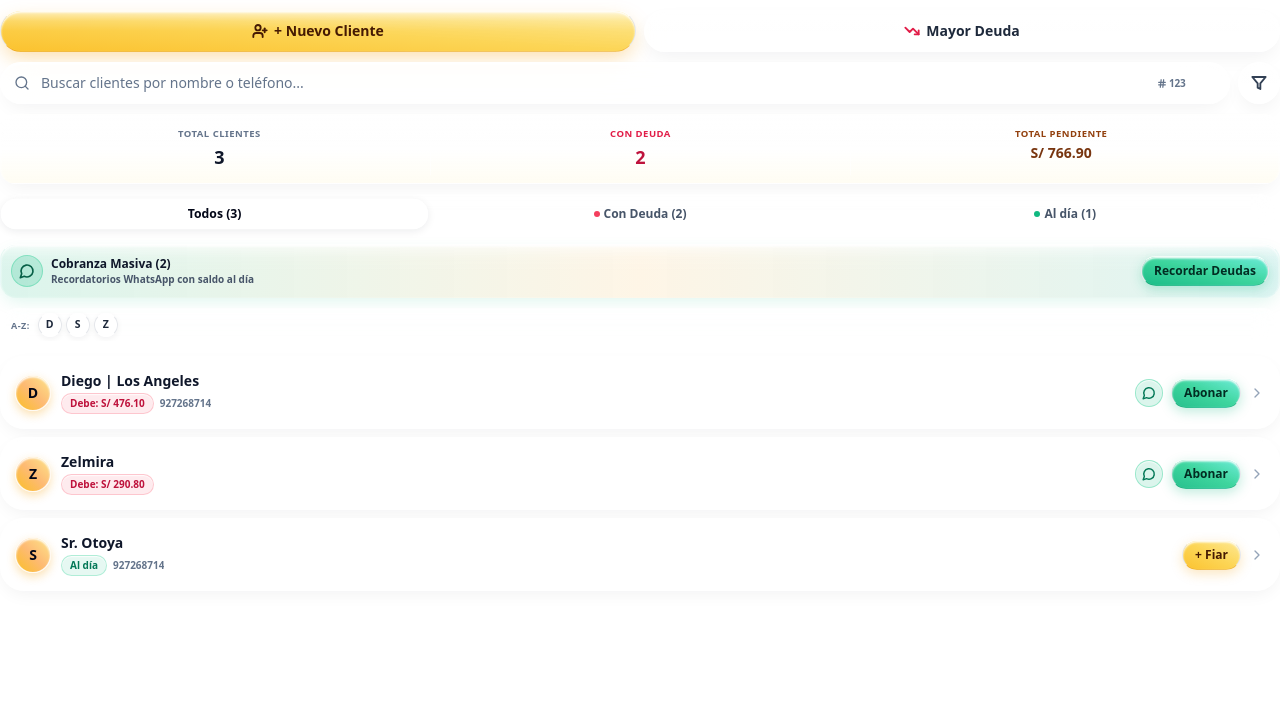
Test: CustomersPage Component (Strict TDD) › Modal Integrations › opens CustomerDetailModal when clicking on a customer card and shows transaction history
Expected: the text "Diego | Los Angeles" is shown, [61, 371, 211, 391]
Click the text "Diego | Los Angeles" at (640, 393), box [0, 356, 1279, 429]
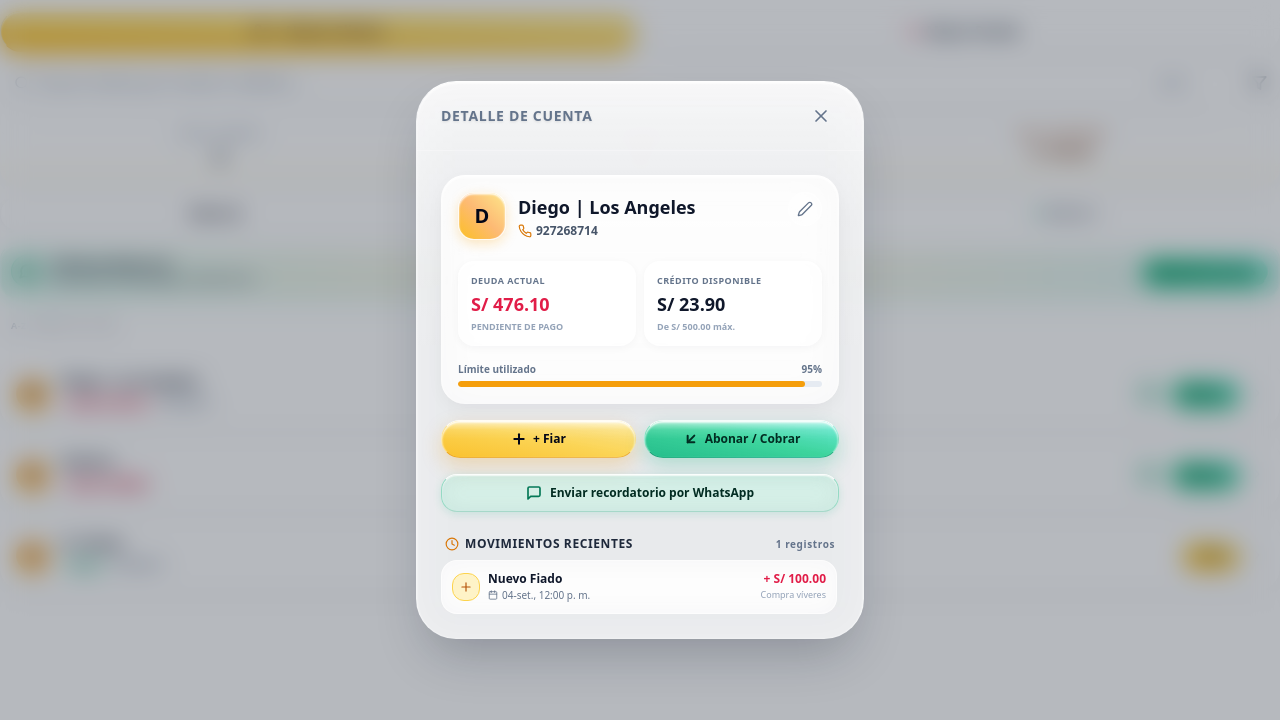
Expected: the dialog is shown, [416, 81, 864, 639]
Expected: the text "Detalle de Cuenta" is shown, [441, 106, 592, 126]
Expected: the text "Deuda Actual" is shown, [471, 274, 545, 287]
